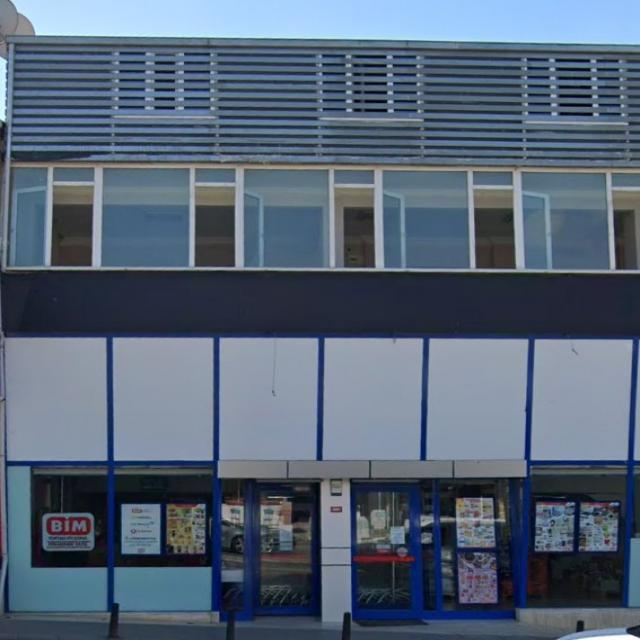Building: (1, 37, 640, 616)
